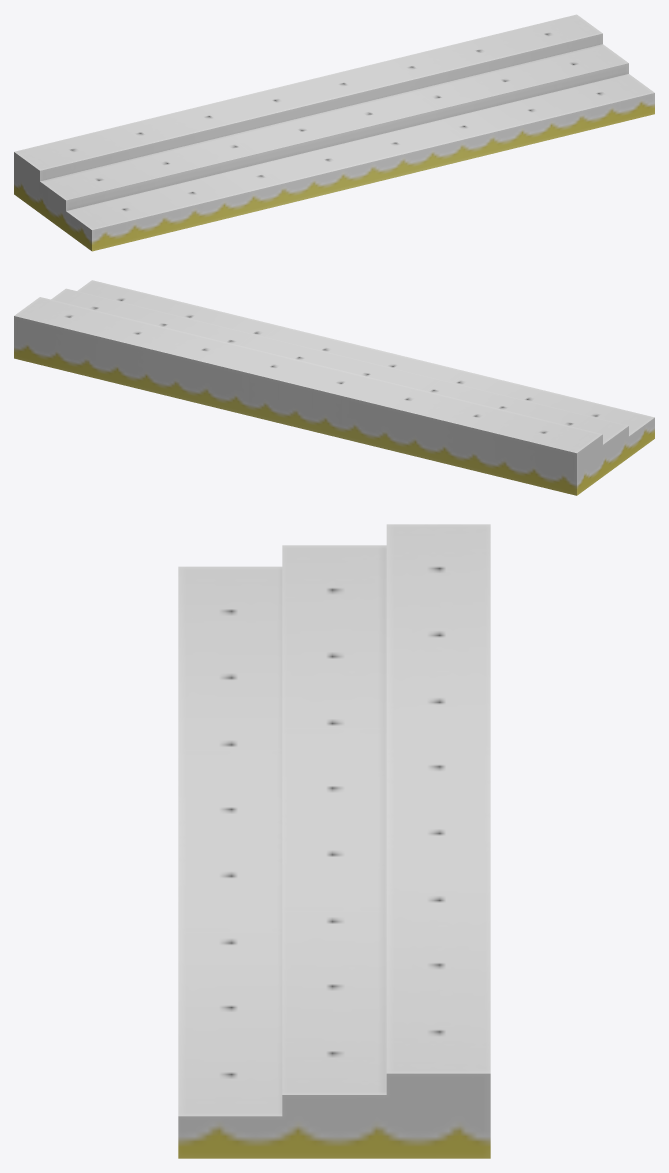
File: jsf_DisplayShelf_03.fbx
3 renders of one model, top to bottom at view 1: azimuth 30°, elevation 25°; view 2: azimuth 150°, elevation 25°; view 3: azimuth 270°, elevation 25°, orthographic. The views are drawn at different scales.
Parts seen in each view (by area): view 1: jsf_DisplayShelf_03; view 2: jsf_DisplayShelf_03; view 3: jsf_DisplayShelf_03.
Boxes of the visible parts, x1=… form: jsf_DisplayShelf_03: x1=14, y1=14, x2=654, y2=251; jsf_DisplayShelf_03: x1=14, y1=280, x2=654, y2=495; jsf_DisplayShelf_03: x1=178, y1=524, x2=490, y2=1158.
Bounding box in the file's own units: 83 × 6 × 19.94.
